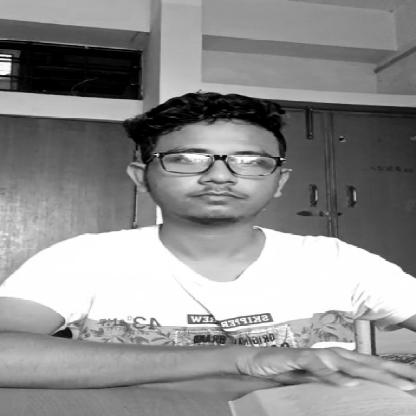Normal: (145, 112, 286, 228)
